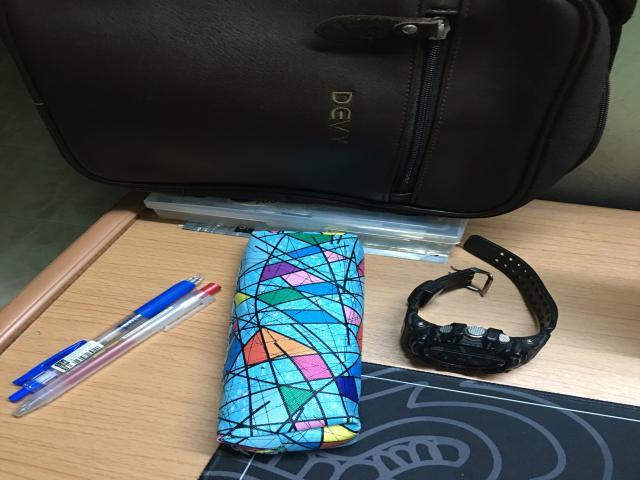Pen: (9, 277, 218, 419)
Watch: (402, 235, 558, 374)
